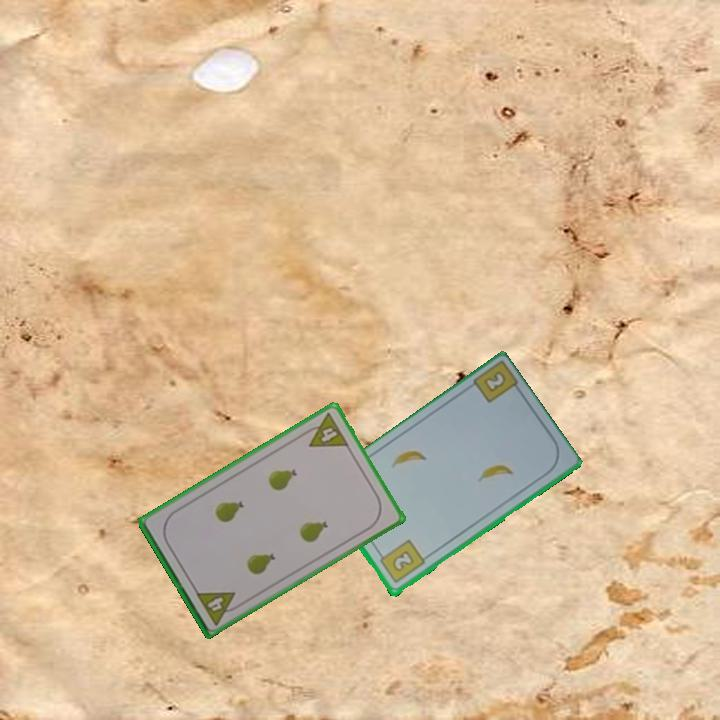2b: (374, 536, 428, 586), (480, 368, 509, 396)
4p: (299, 409, 352, 450), (192, 587, 244, 628)
